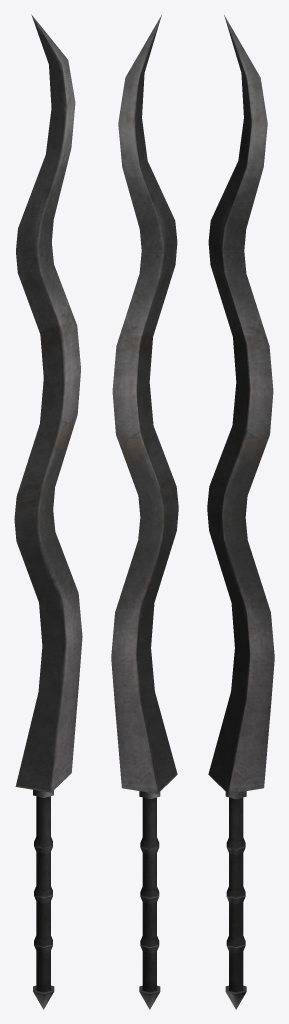
File: 26_weapon.FBX
3 views of the same model, side by side, from view 1: azimuth 30°, elevation 25°; view 2: azimuth 210°, elevation 25°; view 3: azimuth 330°, elevation 25° (orthographic).
Parts seen in each view (by area): view 1: 26_sword; view 2: 26_sword; view 3: 26_sword.
Part boxes in pixels (box(x1,y1,x2,y2)): 26_sword: box(14, 14, 82, 1009); 26_sword: box(111, 15, 178, 1009); 26_sword: box(207, 15, 274, 1009).
Size of the model in its own units: 253 by 3549 by 100.
